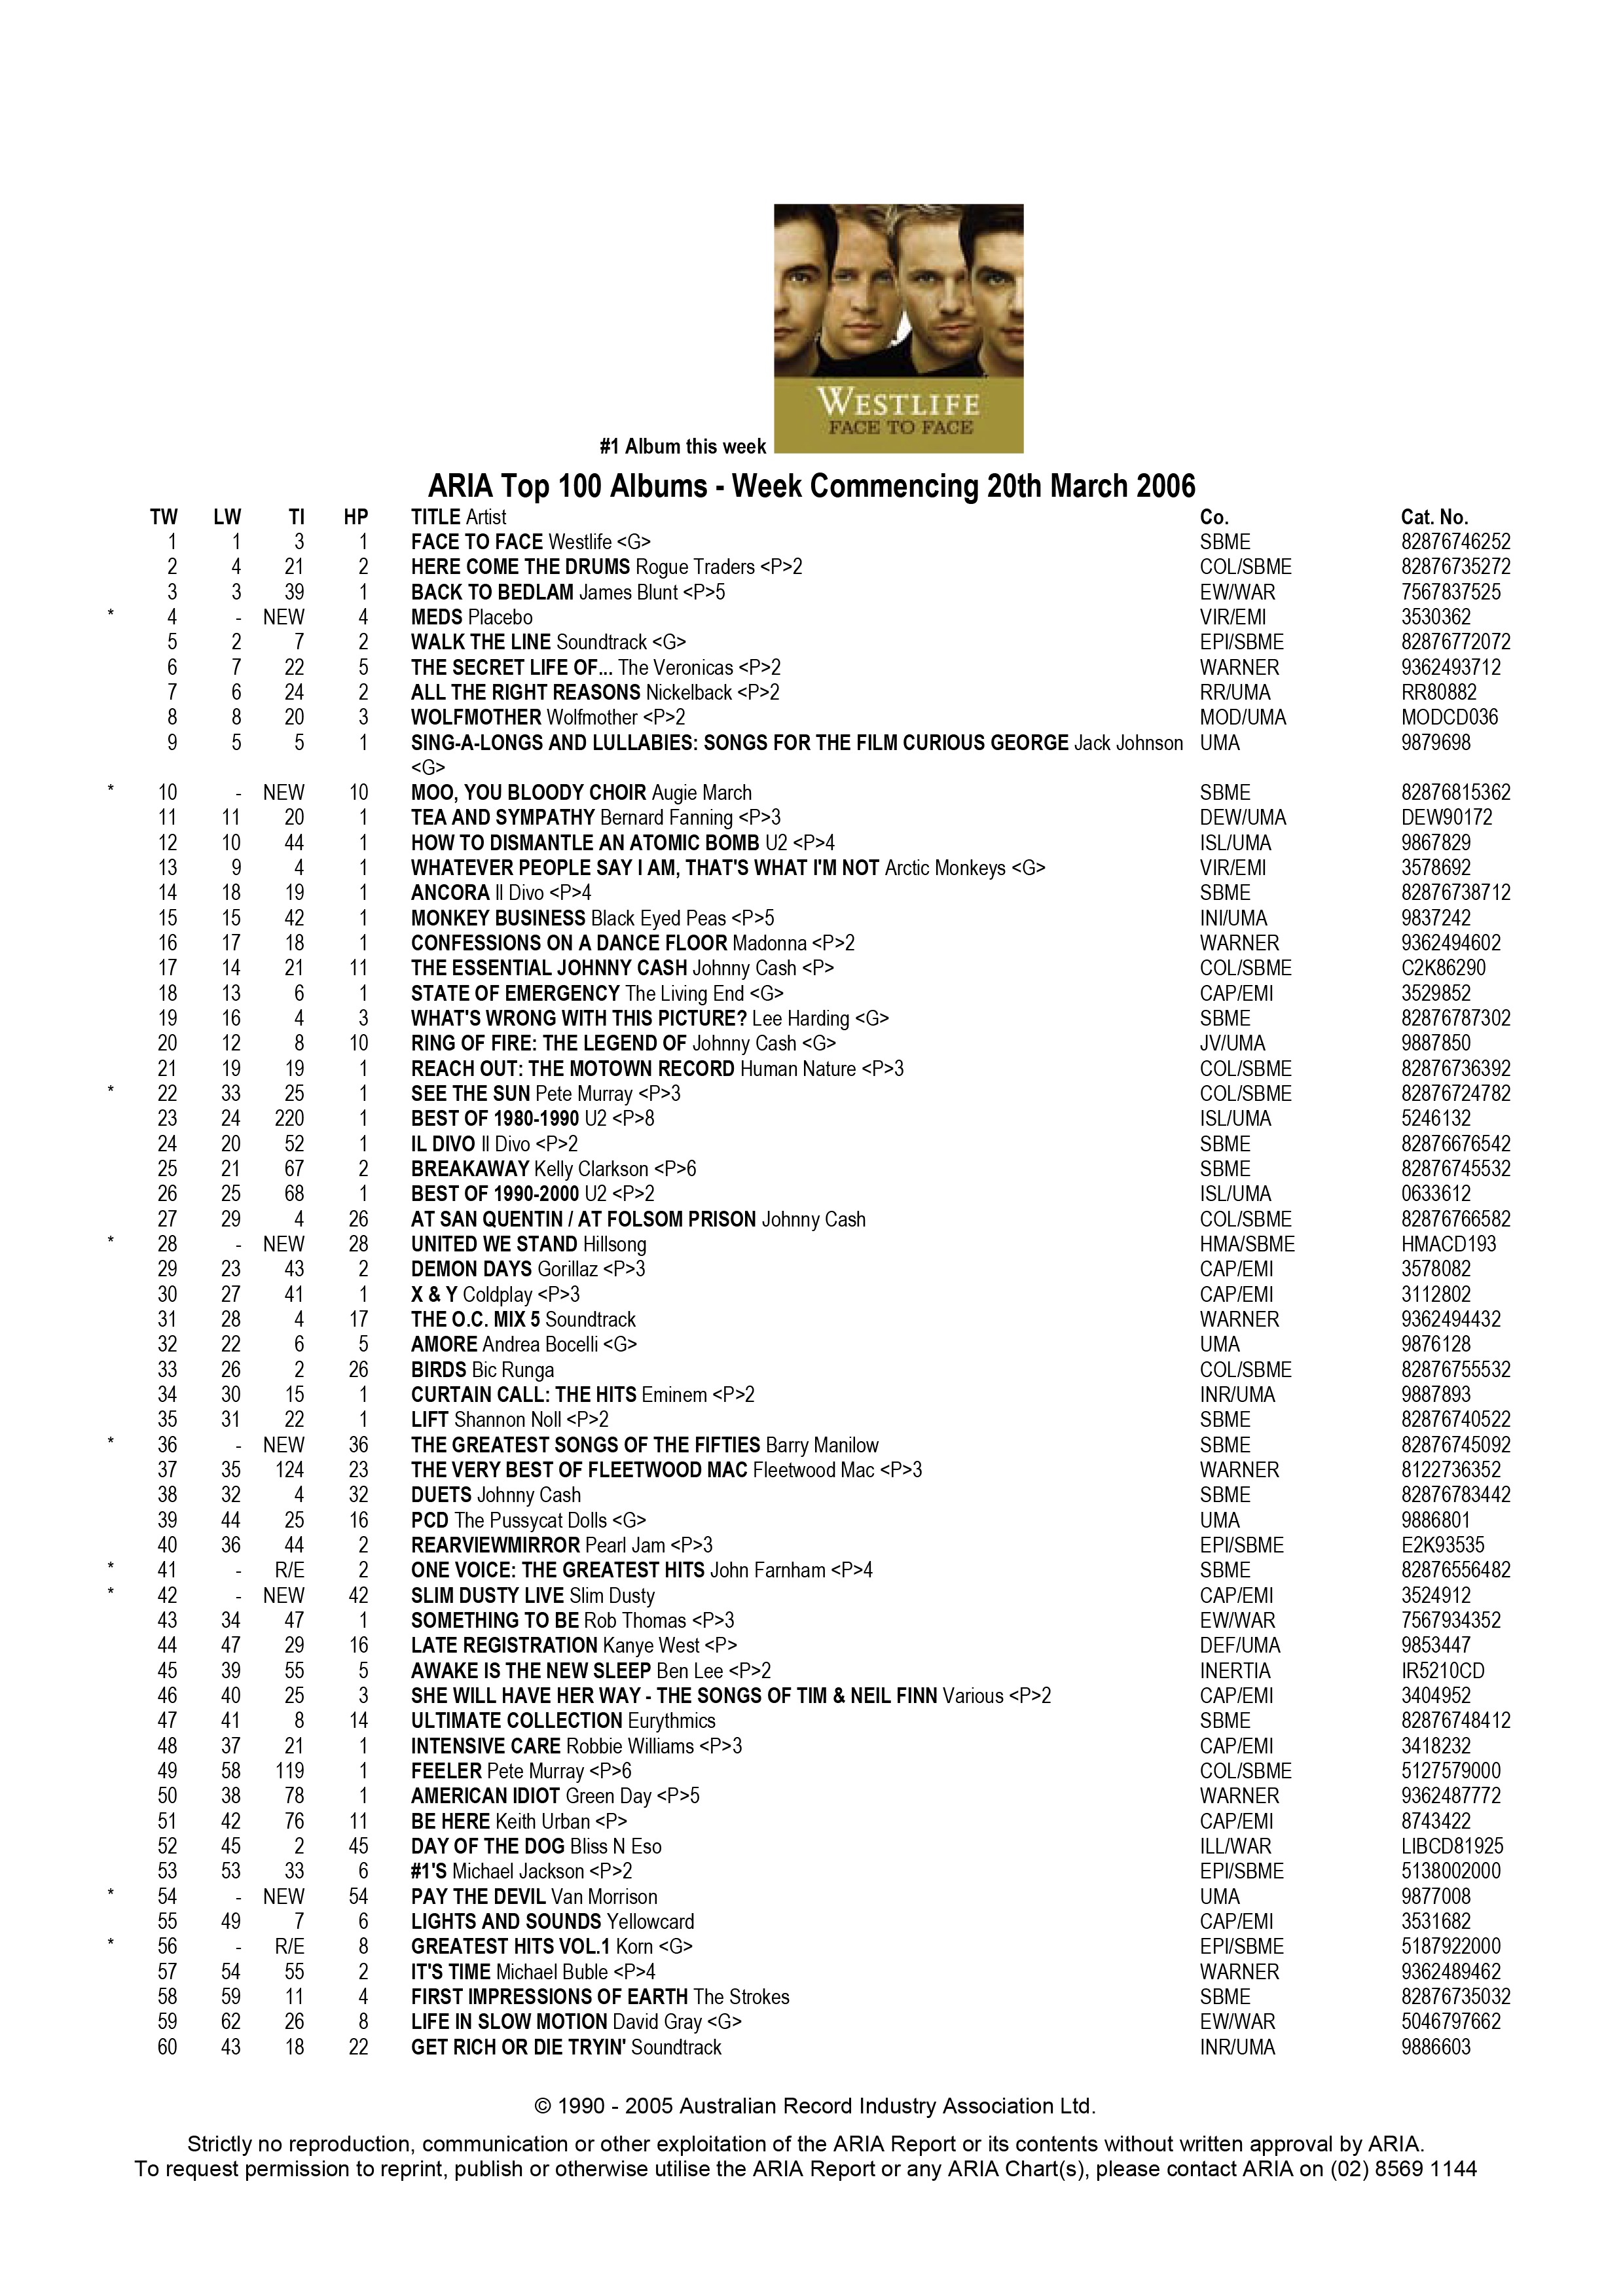caption: (487, 2087, 1126, 2126), (587, 418, 764, 465)
figure: (768, 205, 1026, 451)
table: (114, 458, 1532, 2084)
text: (135, 2136, 1467, 2198)
